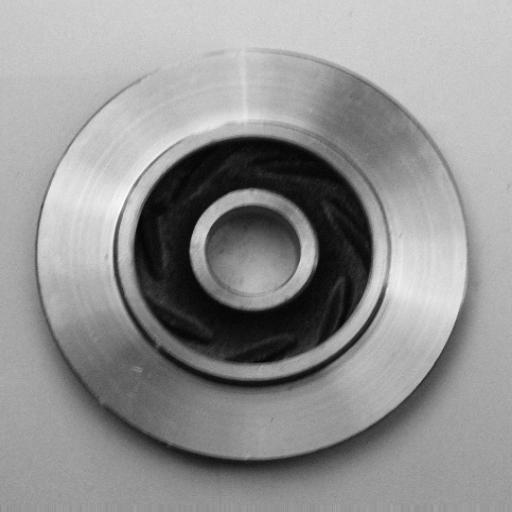unpolished_casting: (30, 53, 470, 468)
